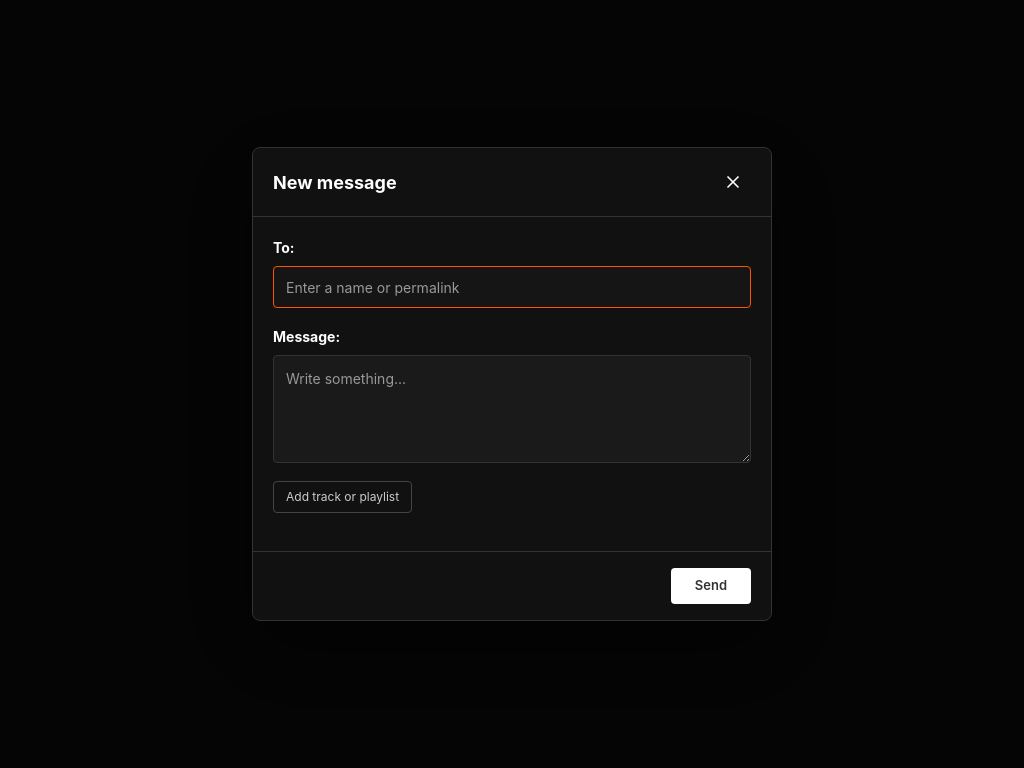
Test: NewConversationModal › should search users when typing in To field
Type "John" into the field with test id "recipient-search-input". click: [512, 287]
box: [273,266,751,308]
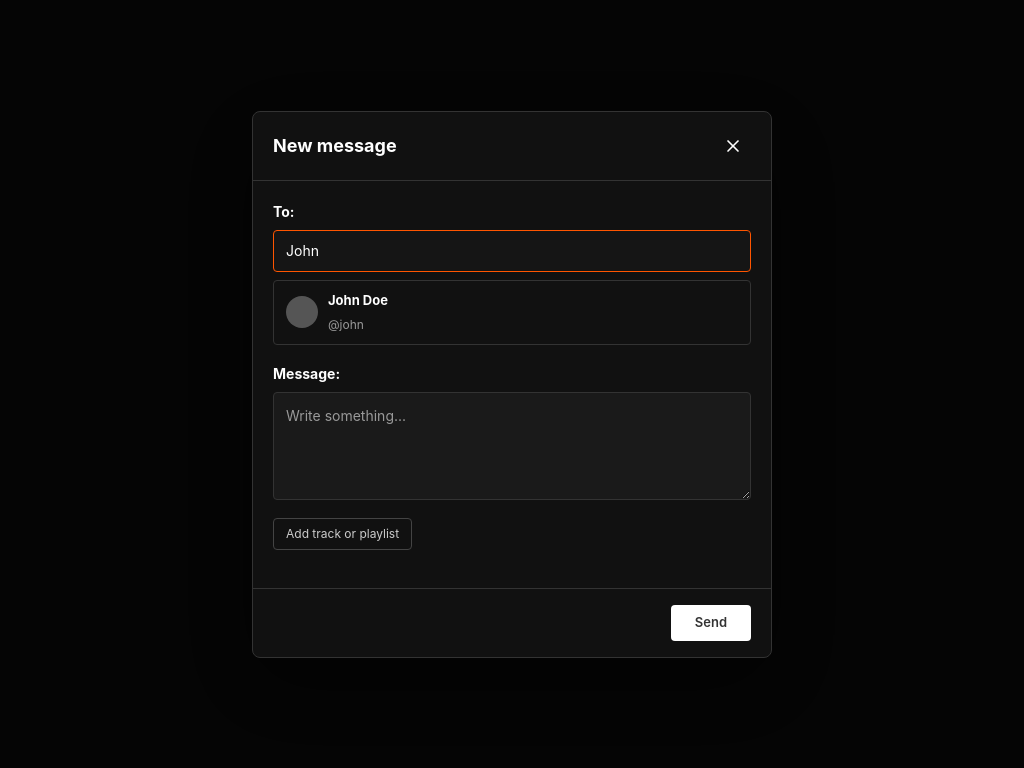
Result: the text "John Doe" is shown at [328,290,388,310]
